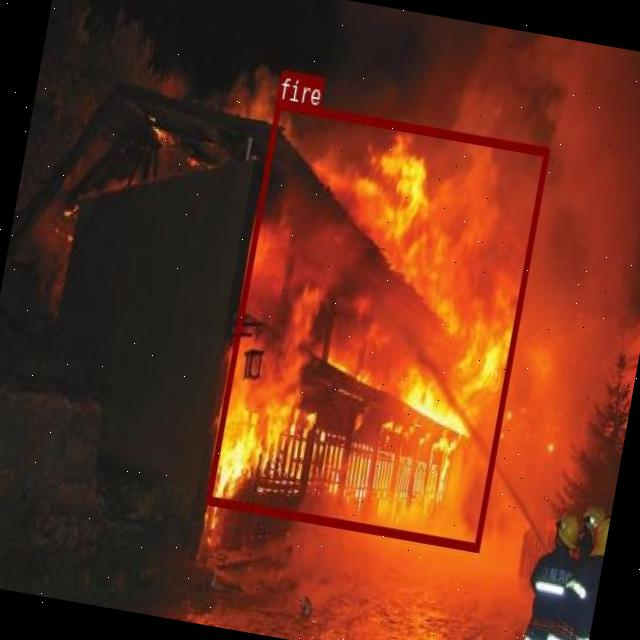fire: (205, 99, 550, 550)
